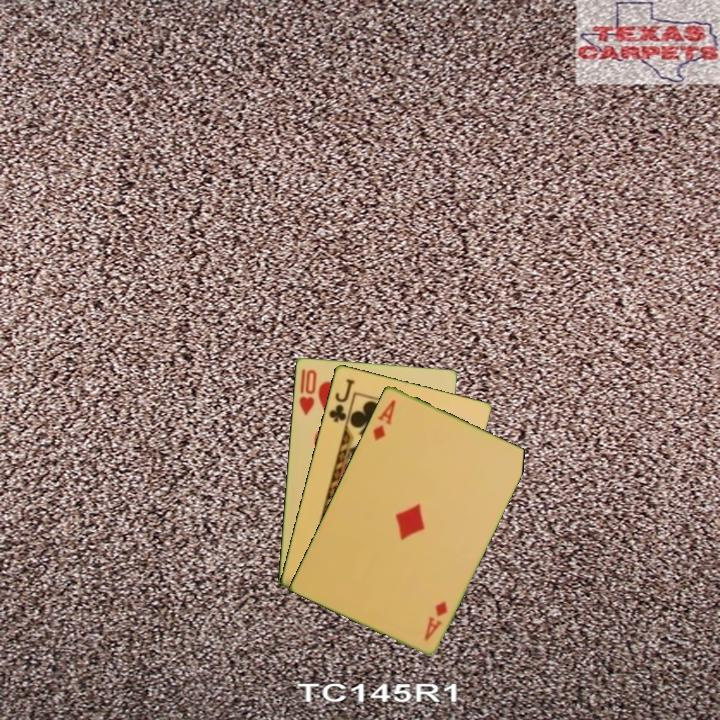10h: (295, 366, 319, 418)
Ad: (369, 396, 399, 443), (420, 597, 450, 643)
Jc: (325, 375, 357, 425)
